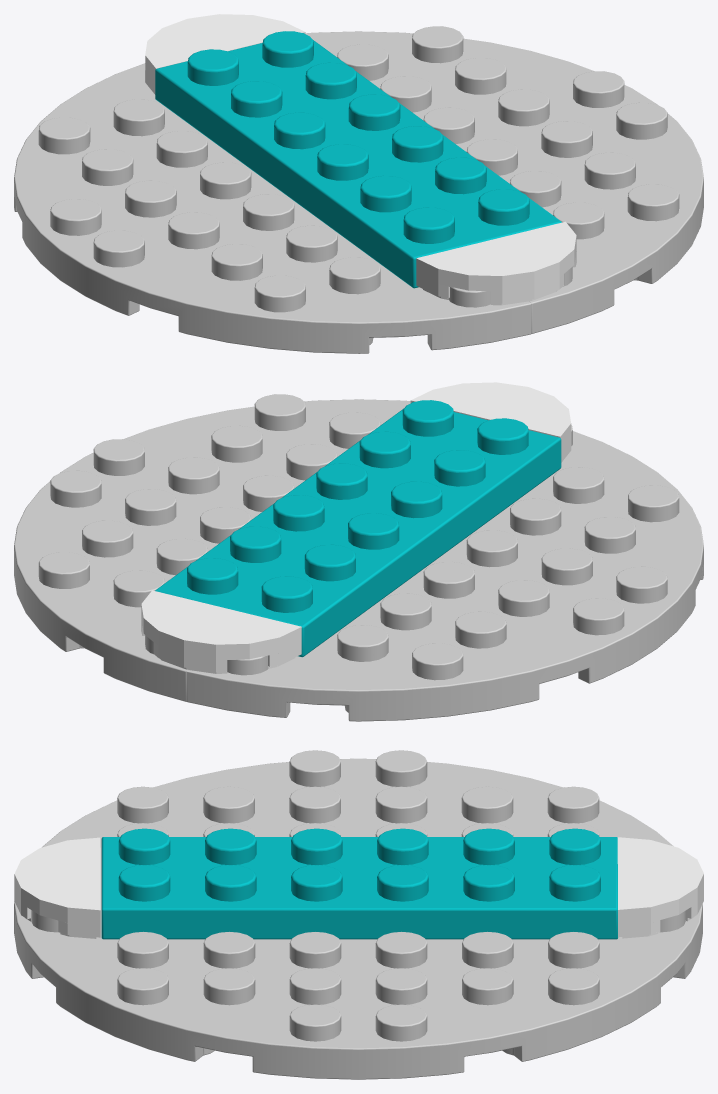
Rendered from Passo 3.fbx.
3 renders of one model, top to bottom at view 1: azimuth 30°, elevation 25°; view 2: azimuth 150°, elevation 25°; view 3: azimuth 270°, elevation 25°, orthographic.
Visible parts, largest first — view 1: Plate_round_4x8_1.001, Plate_round_4x8.002, Plate_2x6.002, Tile_round_1x2, Tile_round_1x2__1_; view 2: Plate_round_4x8_1.001, Plate_round_4x8.002, Plate_2x6.002, Tile_round_1x2__1_, Tile_round_1x2; view 3: Plate_round_4x8.002, Plate_2x6.002, Plate_round_4x8_1.001, Tile_round_1x2, Tile_round_1x2__1_.
Part boxes in pixels (x1,y1,x2,y2): Plate_round_4x8_1.001: (14,63,531,353); Plate_round_4x8.002: (305,26,703,333); Plate_2x6.002: (155,31,561,288); Tile_round_1x2: (416,221,576,305); Tile_round_1x2__1_: (145,14,305,94); Plate_round_4x8_1.001: (186,425,703,721); Plate_round_4x8.002: (14,394,410,701); Plate_2x6.002: (155,400,561,657); Tile_round_1x2__1_: (141,590,301,673); Tile_round_1x2: (410,382,571,462); Plate_round_4x8.002: (14,903,702,1079); Plate_2x6.002: (101,828,617,939); Plate_round_4x8_1.001: (14,750,673,933); Tile_round_1x2: (14,837,100,938); Tile_round_1x2__1_: (617,837,703,938).
Size of the model in its own units: 0.6392 by 0.08 by 0.6409.
